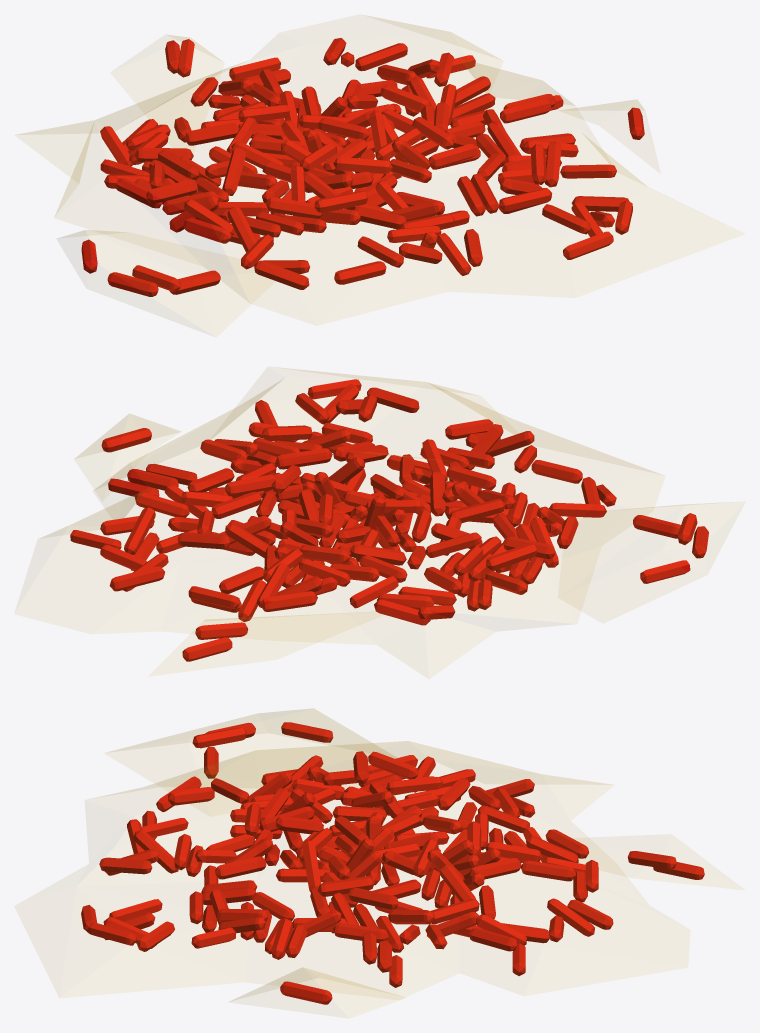
Rendered from Bacteria mucus_01.fbx.
3 renders of one model, top to bottom at view 1: azimuth 30°, elevation 25°; view 2: azimuth 150°, elevation 25°; view 3: azimuth 270°, elevation 25°, orthographic. The views are drawn at different scales.
Parts seen in each view (by area): view 1: Bacteria_mucus_01; view 2: Bacteria_mucus_01; view 3: Bacteria_mucus_01.
Part boxes in pixels (left/top/right/bottom): Bacteria_mucus_01: left=18, top=15, right=646, bottom=303; Bacteria_mucus_01: left=40, top=368, right=715, bottom=661; Bacteria_mucus_01: left=81, top=709, right=704, bottom=1004.
Bounding box in the file's own units: 345 × 42.26 × 373.
